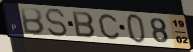0: (126, 13, 148, 45)
8: (149, 17, 170, 44)
B: (19, 6, 46, 36), (71, 10, 98, 40)
C: (97, 13, 122, 41)
S: (43, 8, 69, 38)
